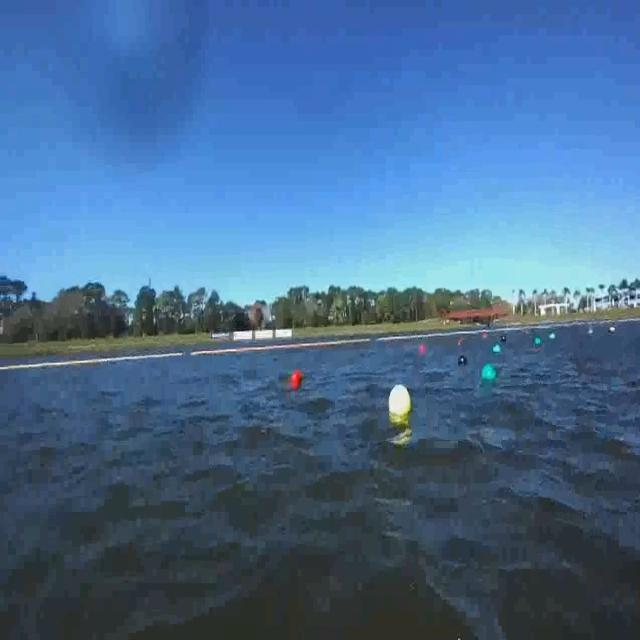black-buoy: (459, 354, 468, 366)
green-buoy: (483, 363, 499, 382), (494, 344, 502, 354)
red-buoy: (292, 370, 302, 388)
yellow-buoy: (388, 387, 411, 423)
